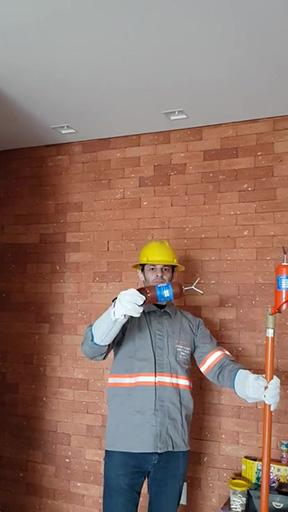Detector_Tensao_Contato: (135, 278, 204, 301), (272, 246, 288, 317)
Vara_Manobra: (259, 309, 279, 512)
